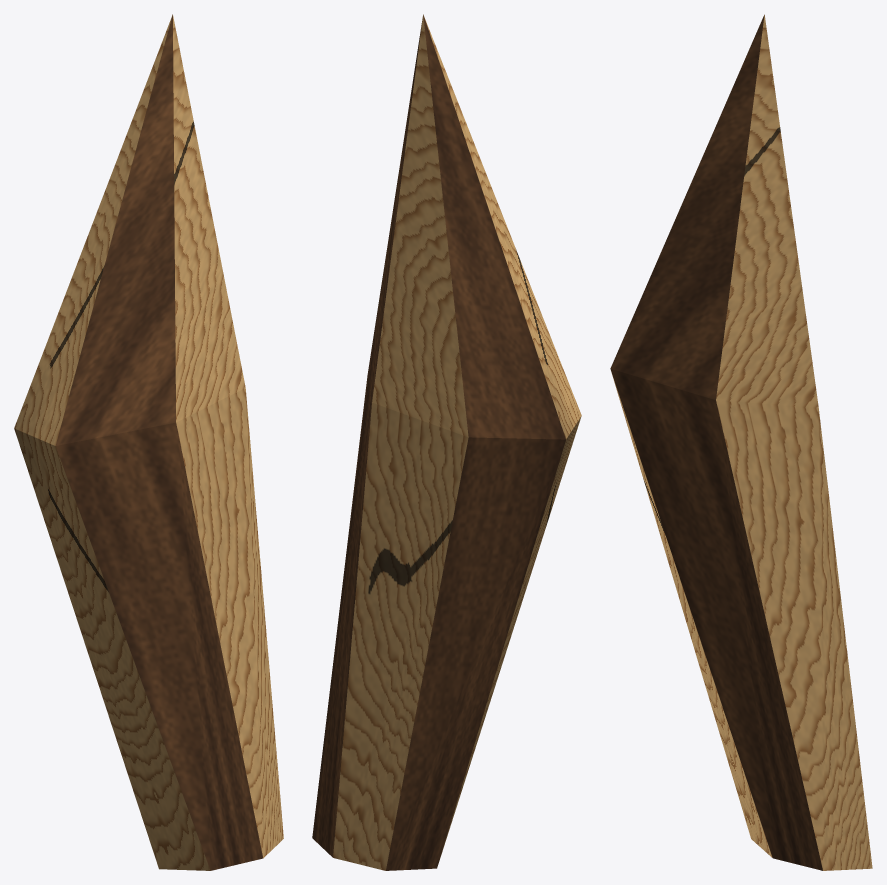
File: chip_b.glb
3 views of the same model, side by side, from view 1: azimuth 30°, elevation 25°; view 2: azimuth 150°, elevation 25°; view 3: azimuth 330°, elevation 25° (orthographic). The views are drawn at different scales.
Visible parts, largest first — view 1: chip_b; view 2: chip_b; view 3: chip_b.
Boxes of the visible parts, left/top/right/bottom form: chip_b: left=14, top=14, right=283, bottom=870; chip_b: left=312, top=14, right=581, bottom=870; chip_b: left=610, top=14, right=872, bottom=870.
Bounding box in the file's own units: 0.0322 × 0.1 × 0.0121.
Materials: 2 (2 with a texture image).
